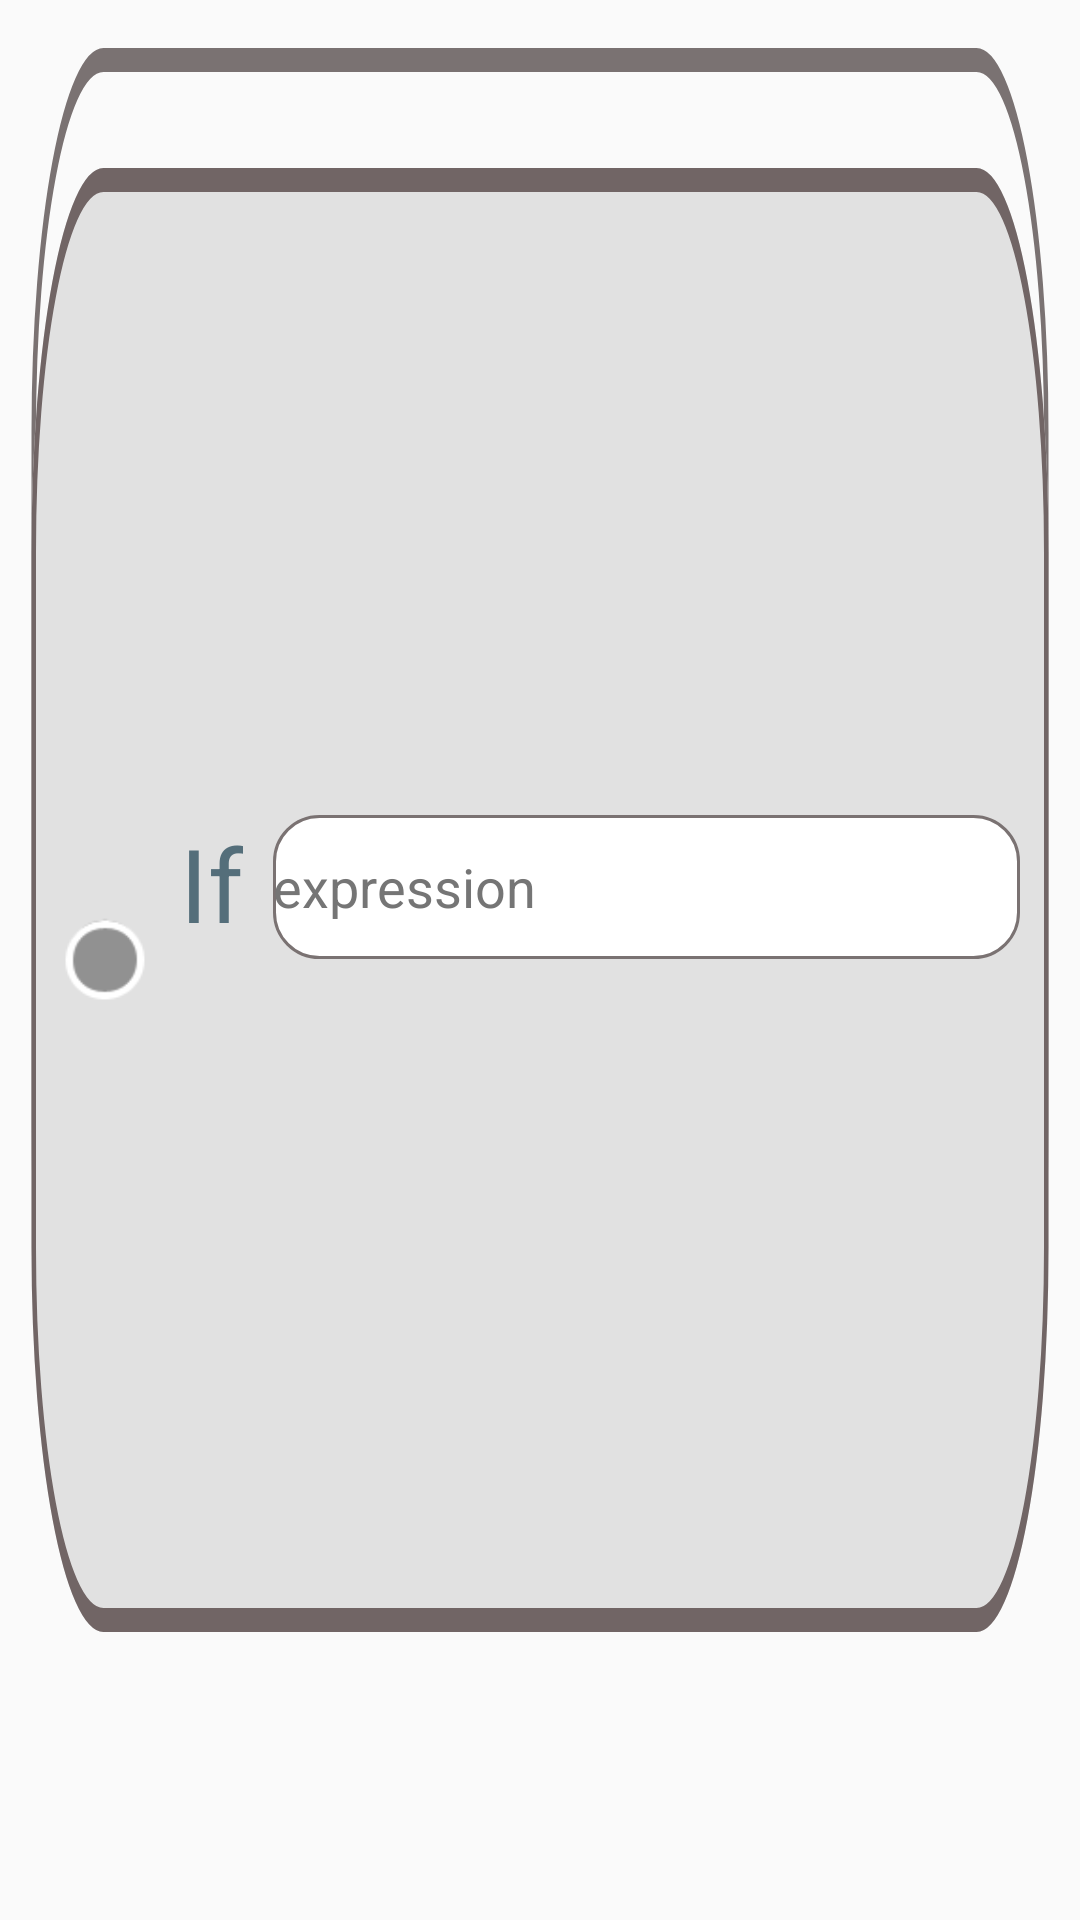

Icon click points for this 1080x1920 phone screenshot, format (x=x, y=y):
presence invisible: (x=105, y=960)
